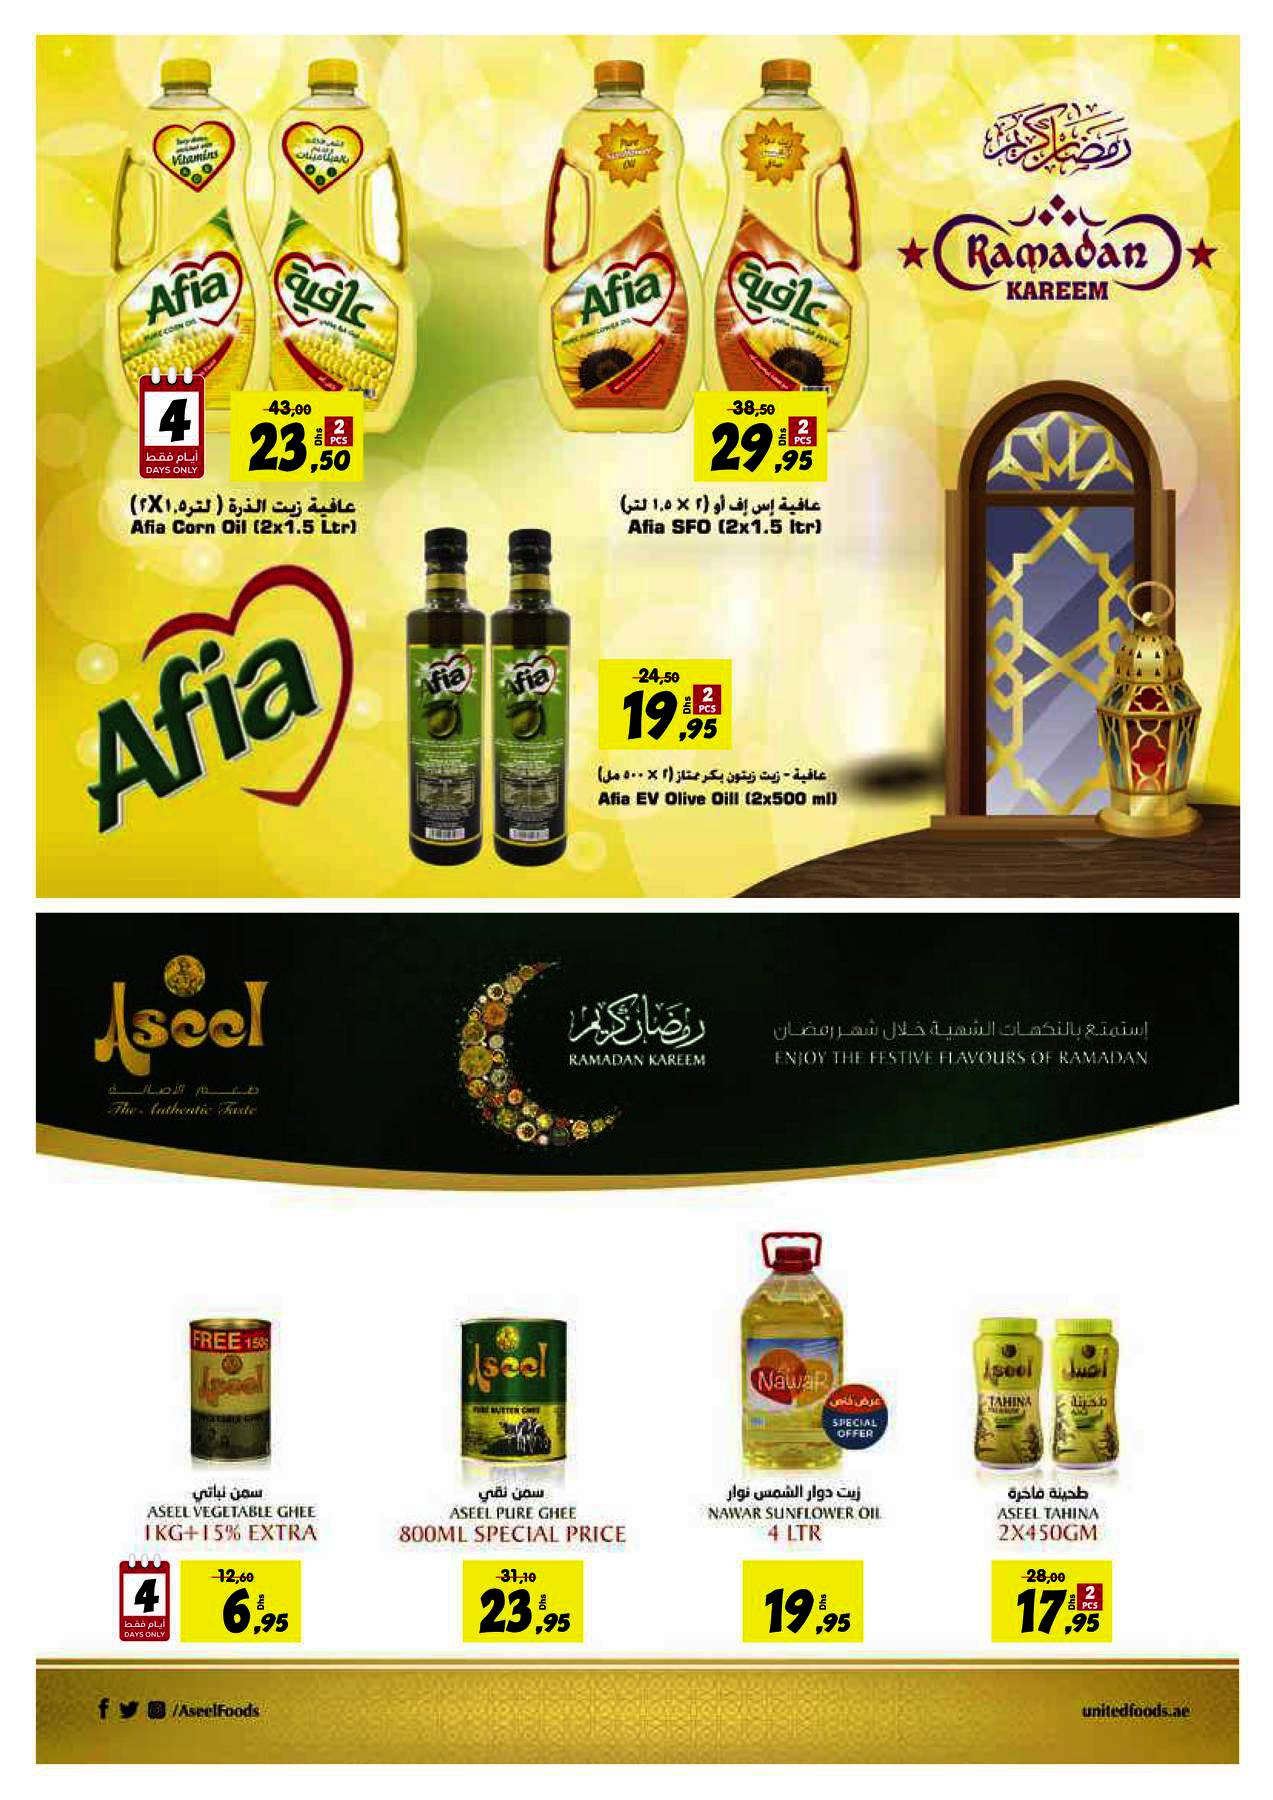text: (384, 1476, 634, 1553), (587, 757, 851, 819), (134, 1474, 327, 1553), (693, 1472, 900, 1547), (123, 488, 364, 550), (608, 488, 834, 550), (980, 1479, 1126, 1552)
